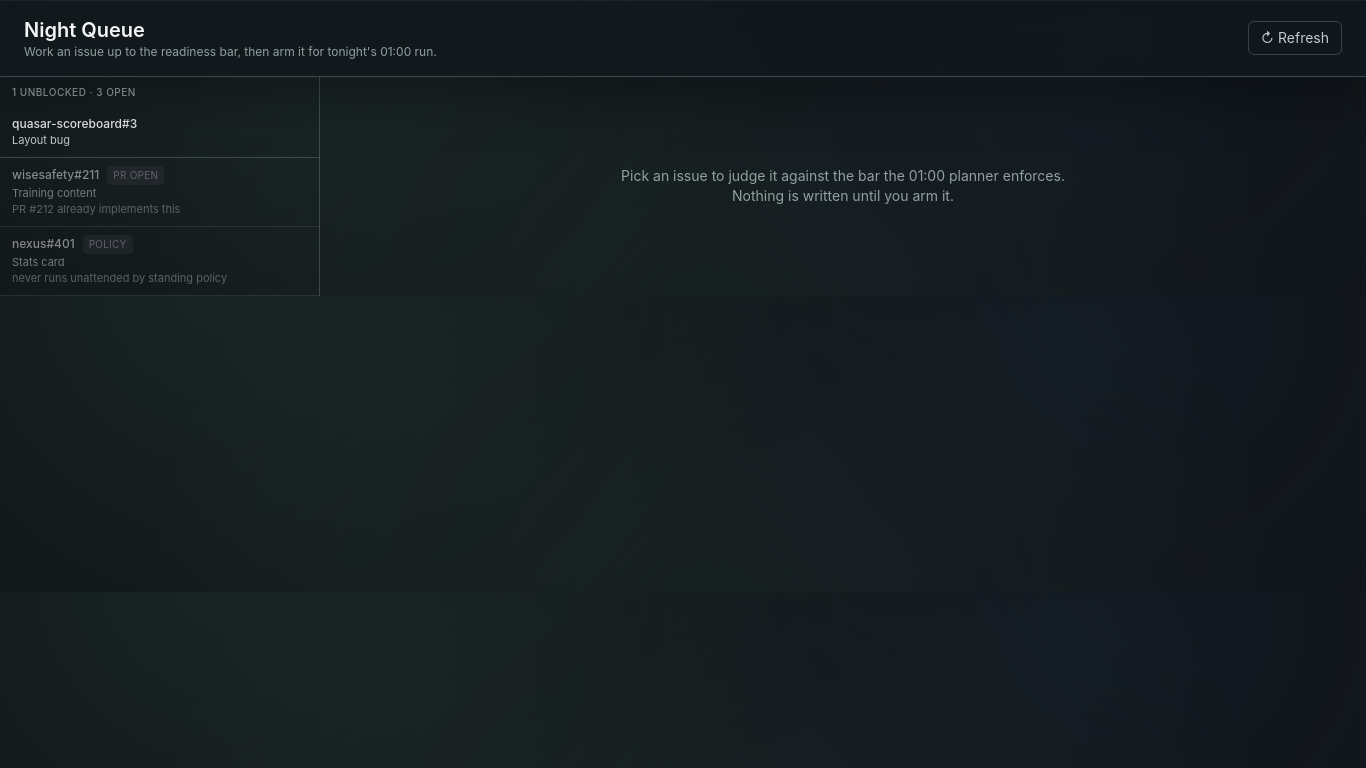
NightQueueWorkshop › does not offer to arm an issue blocked by an open PR
Click the text "Training content" at (54, 192), box [12,186,96,200]
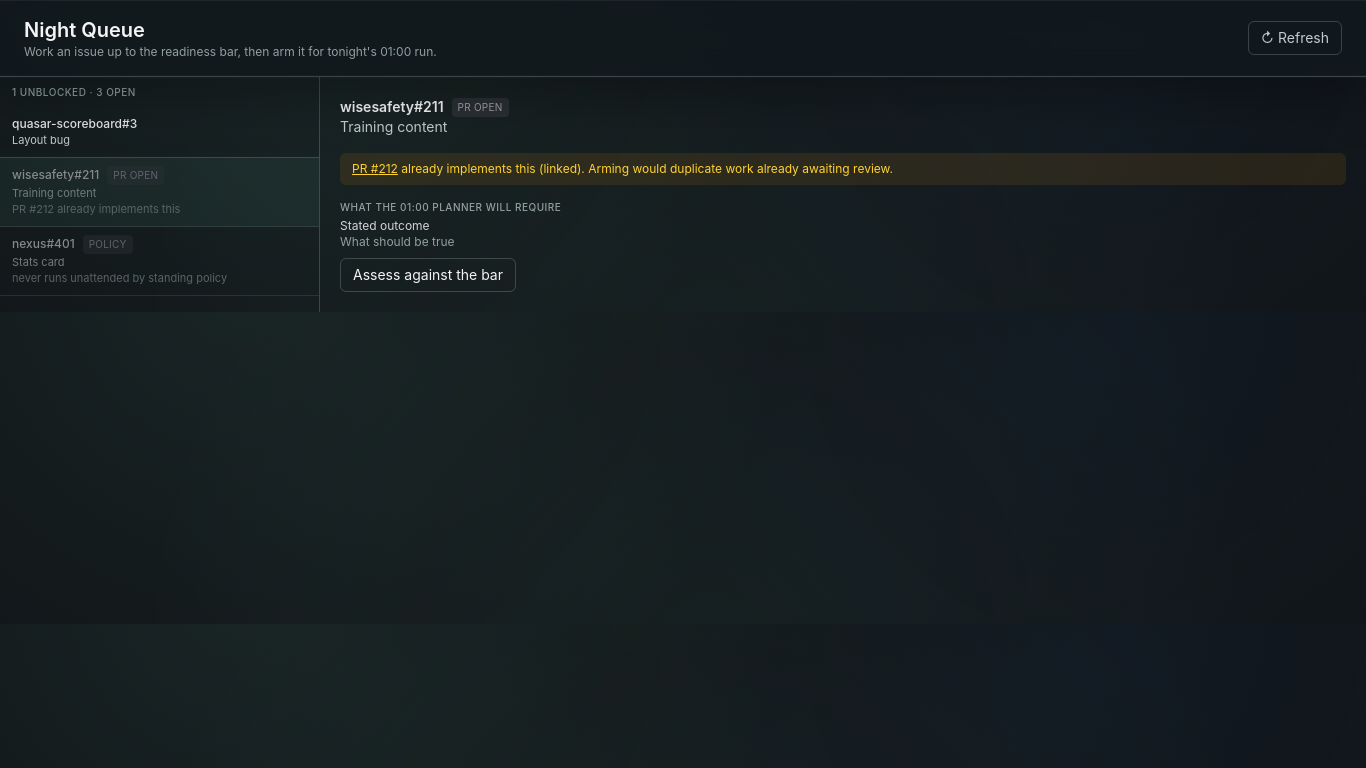
Click the button "Assess against the bar" at (428, 275), box [340,258,516,292]
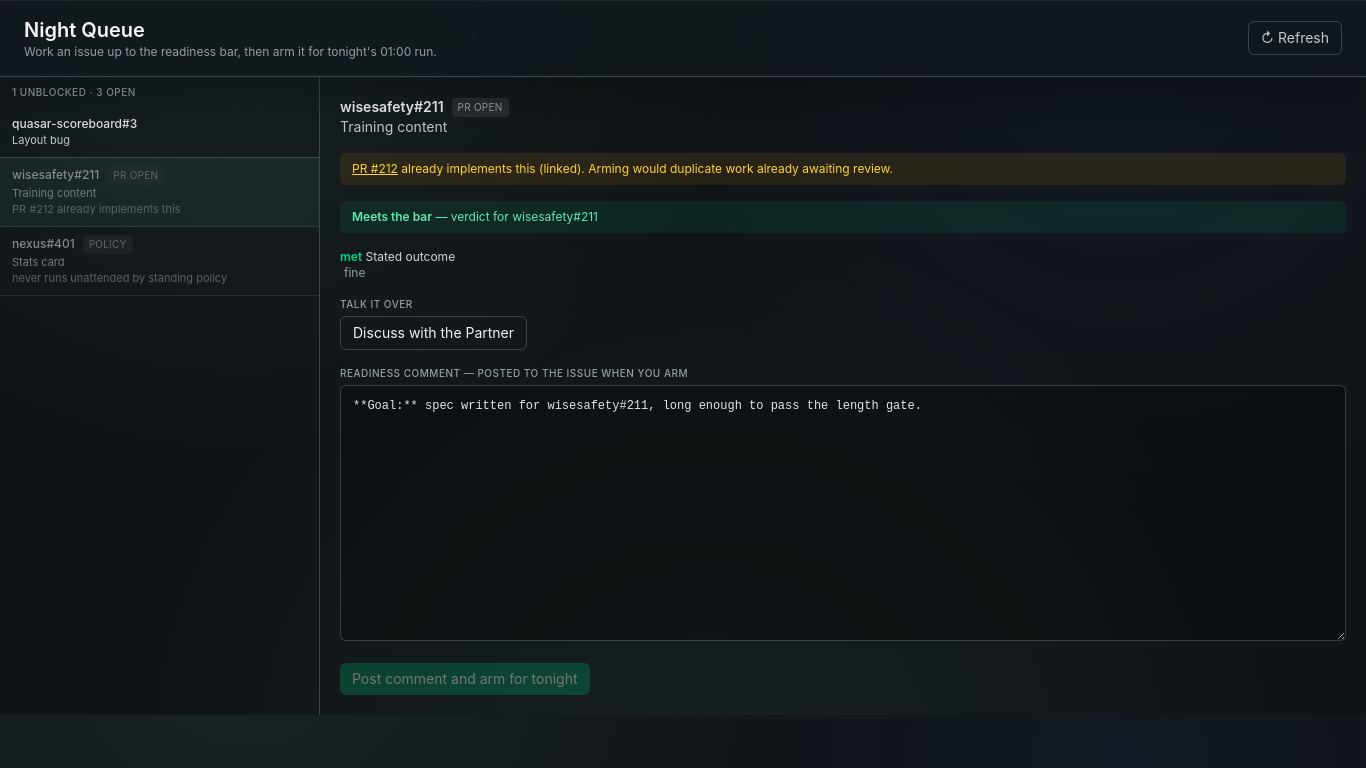
Expected: the text "Meets the bar — verdict for wisesafety#211" is shown, [340,201,1346,233]
Expected: the button "Post comment and arm for tonight" is disabled, [340,663,590,695]
